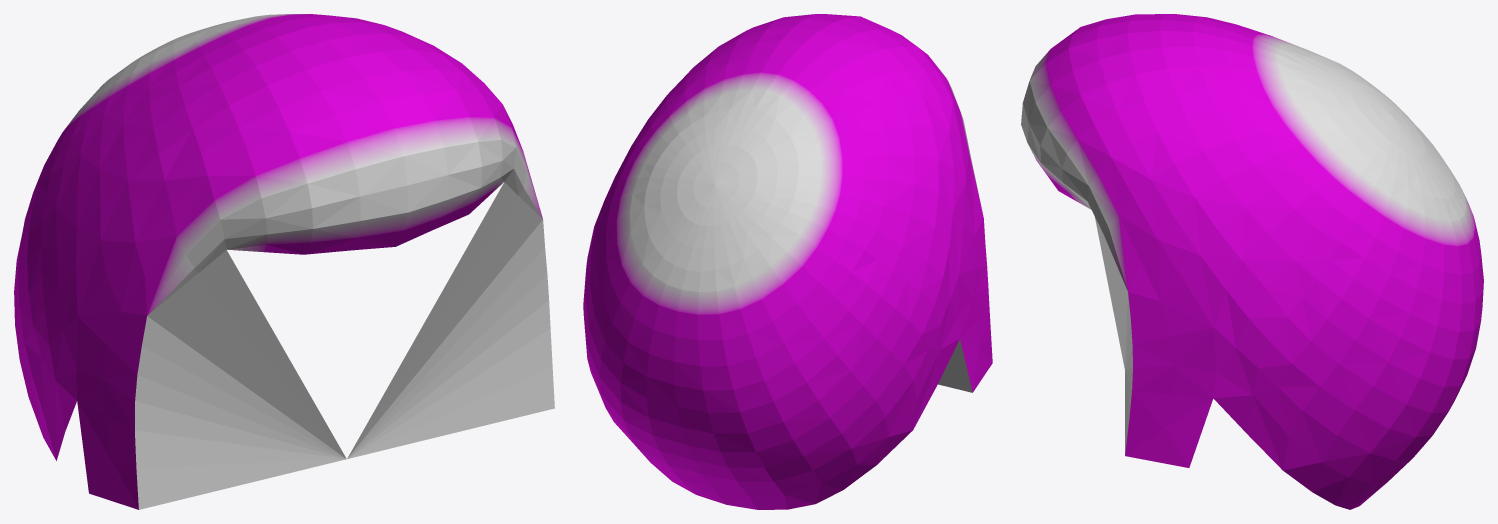
The model's file is hair_68.glb.
3 renders of one model, left to right at view 1: azimuth 30°, elevation 25°; view 2: azimuth 150°, elevation 25°; view 3: azimuth 270°, elevation 25°, orthographic. The views are drawn at different scales.
Visible parts, largest first — view 1: shape; view 2: shape; view 3: shape.
Boxes of the visible parts, x1,y1,x2,y2 form: shape: (14,14,554,509); shape: (583,14,992,509); shape: (1021,14,1483,509).
Size of the model in its own units: 53.21 by 62.04 by 57.62.
